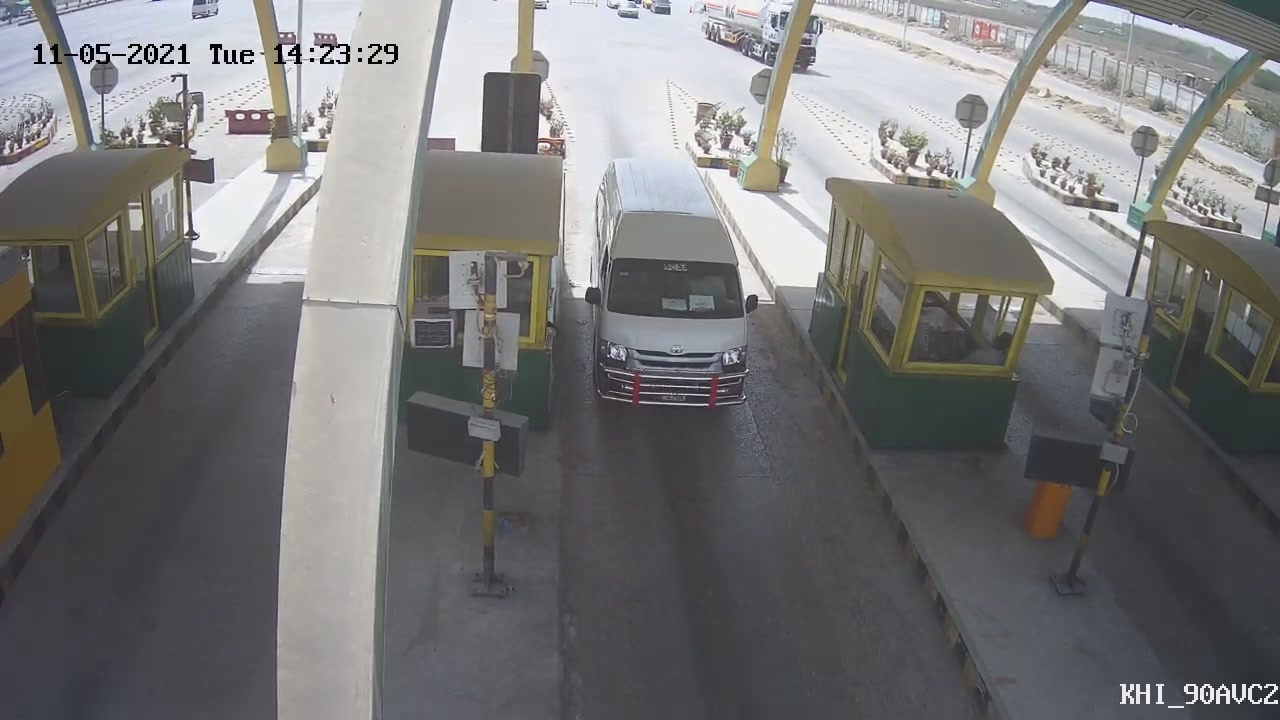F2: (587, 161, 753, 423)
